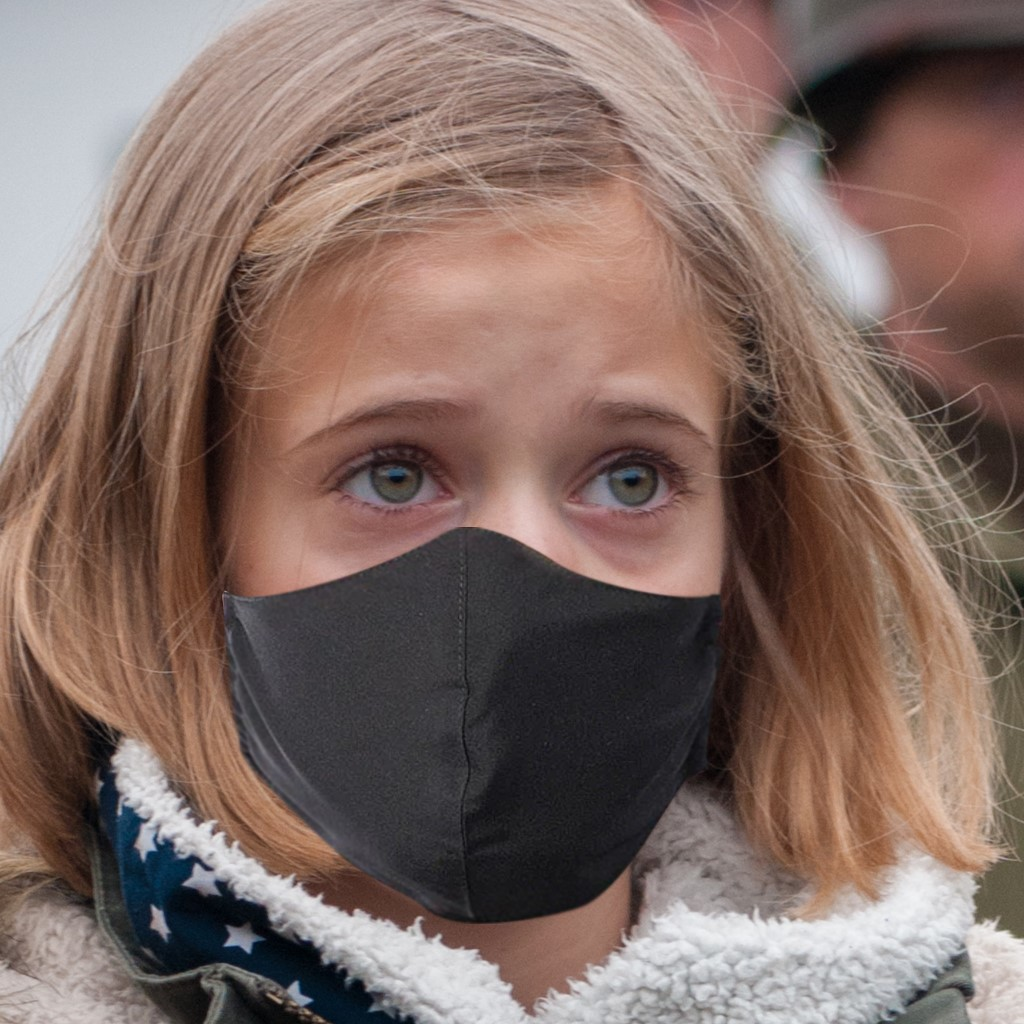con_mascara: (201, 170, 740, 930)
